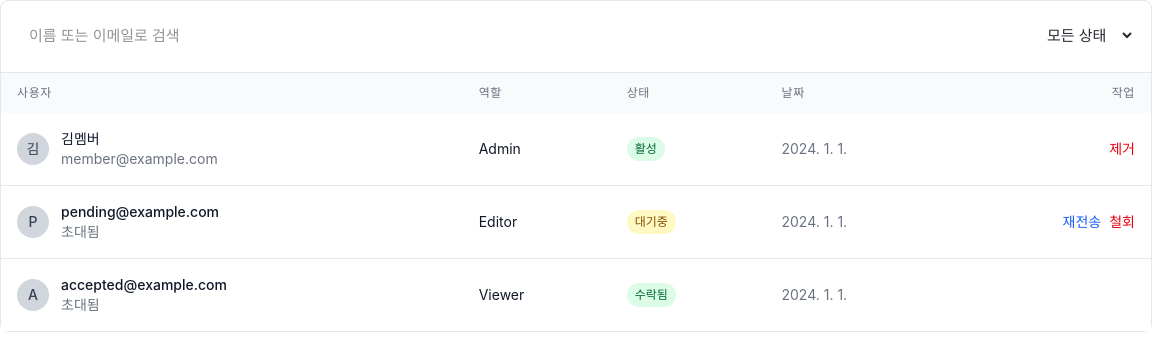
TeamMemberTable › 상태 필터가 작동해야 함
Select "대기중" in the dropdown named "상태 필터": (1083,36) [1031,17,1135,54]
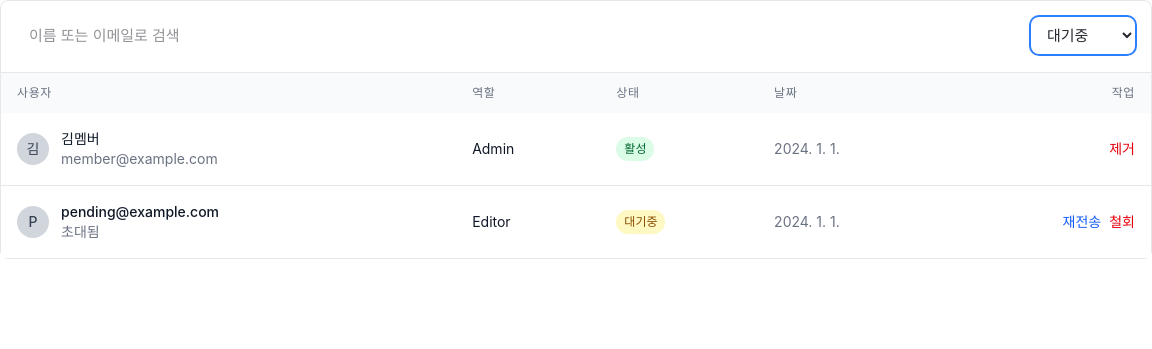
Expected: the text "pending@example.com" is shown, [61,202,219,222]
Now the text "accepted@example.com" is gone
